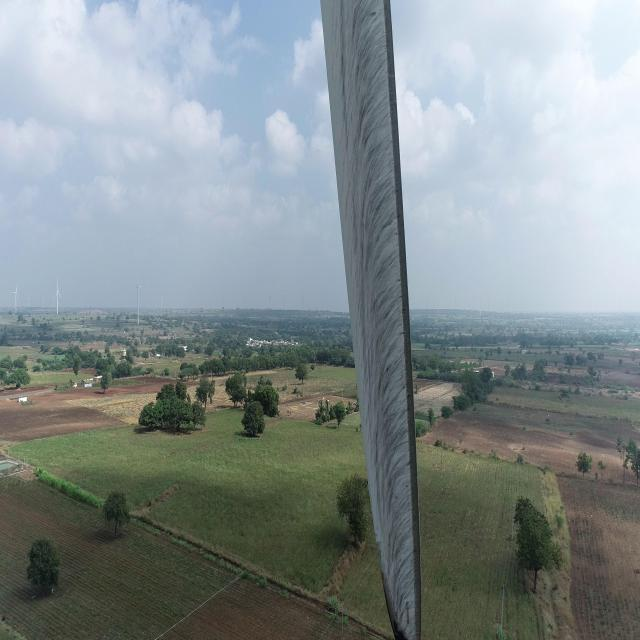Dirt: (318, 0, 424, 639)
Oil LEAKAGE: (384, 571, 407, 640)
